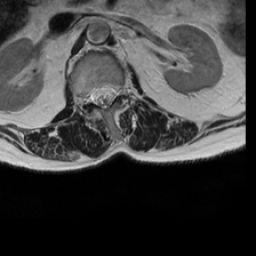CCS_normal: (99, 75, 108, 115)
LFS_normal: (116, 75, 125, 104)
LLS_normal: (108, 75, 116, 109)
RFS_normal: (82, 85, 90, 111)
RLS_normal: (90, 78, 99, 111)
